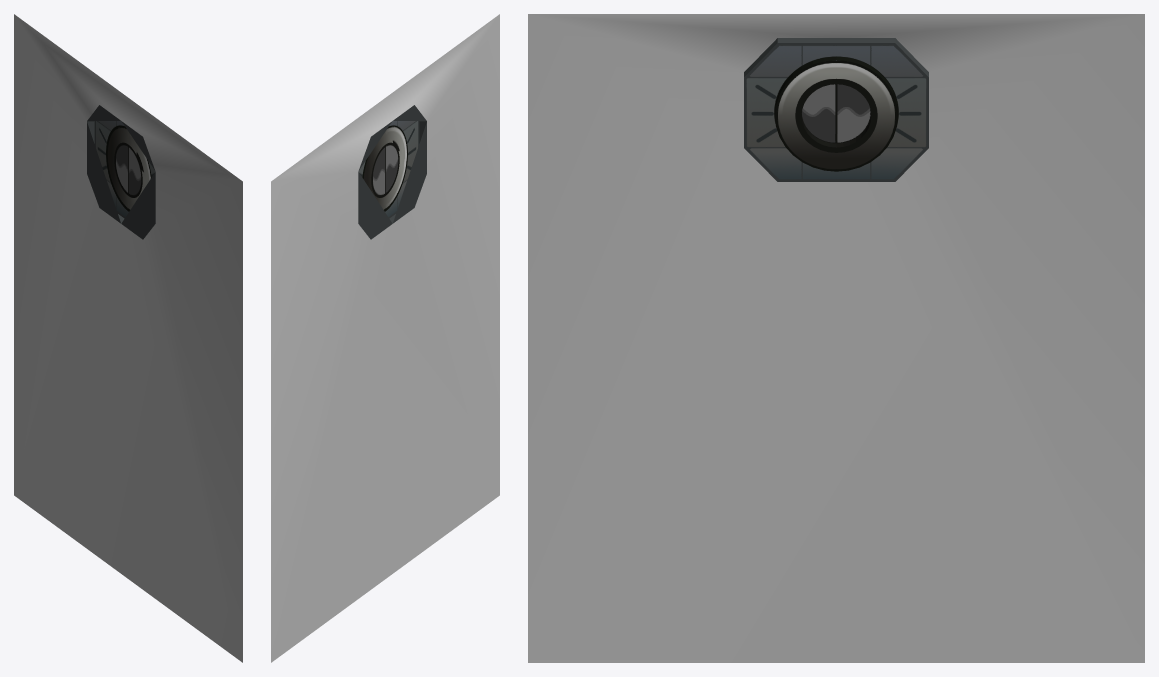
The model's file is SektorDoor.fbx.
3 renders of one model, left to right at view 1: azimuth 30°, elevation 25°; view 2: azimuth 150°, elevation 25°; view 3: azimuth 270°, elevation 25°, orthographic. The views are drawn at different scales.
Parts seen in each view (by area): view 1: DoorWall, Door, DP1, DP2; view 2: DoorWall, Door, DP1, DP2; view 3: DoorWall, Door, DP1, DP2.
Boxes of the visible parts, x1,y1,x2,y2 form: DoorWall: (14, 14, 242, 662); Door: (87, 105, 155, 239); DP1: (128, 145, 142, 197); DP2: (114, 142, 128, 195); DoorWall: (271, 14, 499, 662); Door: (358, 105, 426, 239); DP1: (385, 142, 399, 195); DP2: (371, 145, 385, 197); DoorWall: (528, 14, 1144, 662); Door: (744, 38, 928, 181); DP1: (802, 84, 836, 143); DP2: (836, 84, 870, 143).
Bounding box in the file's own units: 24.06 × 825 × 711.
